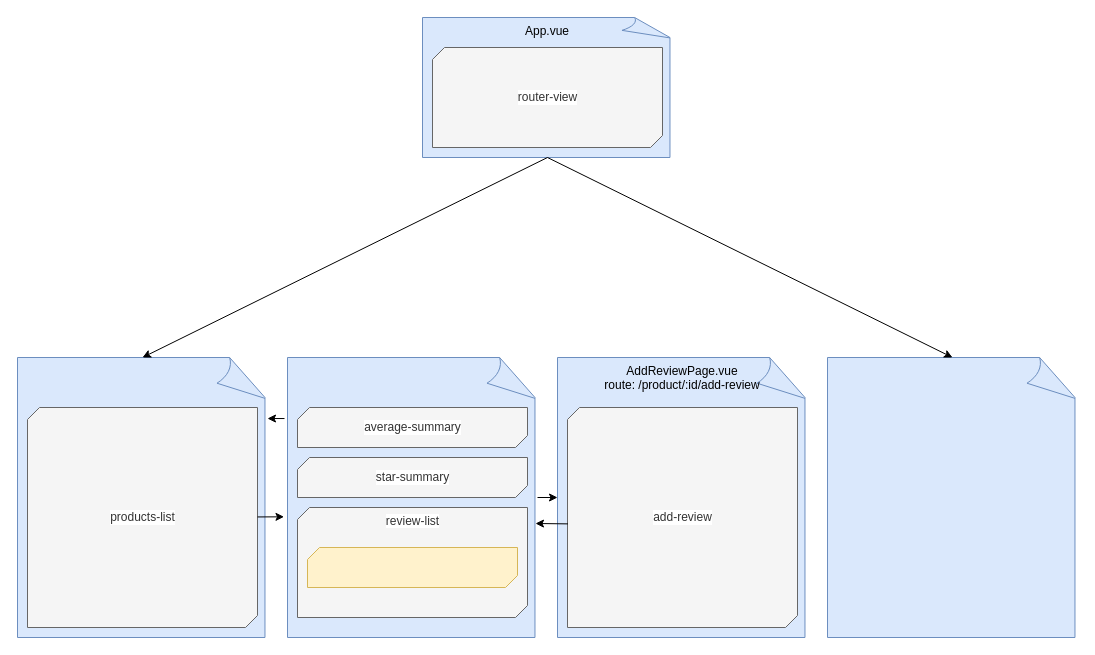
Image size: 1095x655. Some labels were removed from this diagram. The shapes that lost their labels are listed below. From the top down, each one's box as (x1, y1, x2, y2) in pixels, then its label:
(16, 356, 268, 638): Products.vue route: /
(286, 356, 538, 638): ProductDetail.vue route: /products/:id
(826, 356, 1078, 638): About.vue route: /about
(306, 546, 518, 588): review-display
